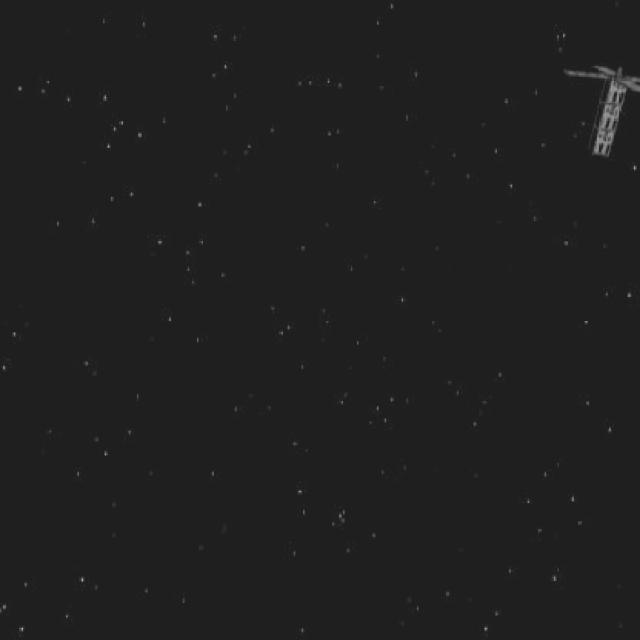medium_debris: (557, 52, 640, 169)
